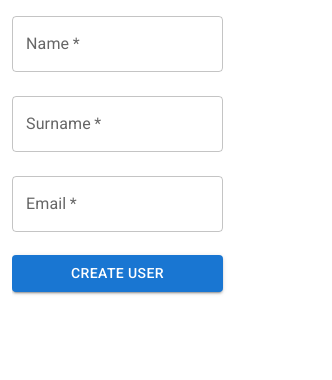
Test: UserForm › should display email input › with max length field error
This screenshot has width=332, height=380.
Type "correctEmailWithLenghtGreaterThan48Letters@format.com" into the field labelled "Email *". click: (118, 204)
box: [12, 176, 223, 232]
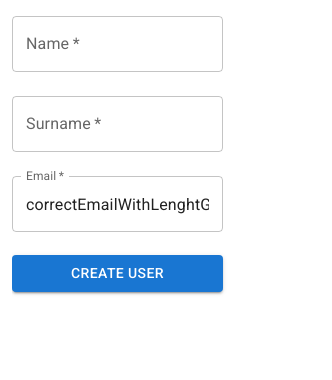
Click the button "Create User". click: click(118, 273)
box: [12, 255, 223, 292]
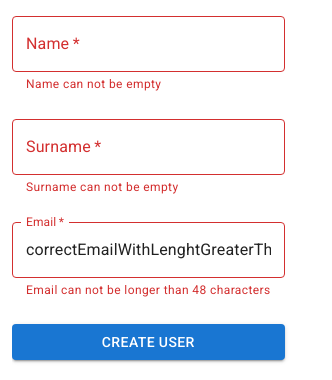
Expected: the text "Email can not be longer than 48 characters" is shown, [26, 281, 271, 301]
